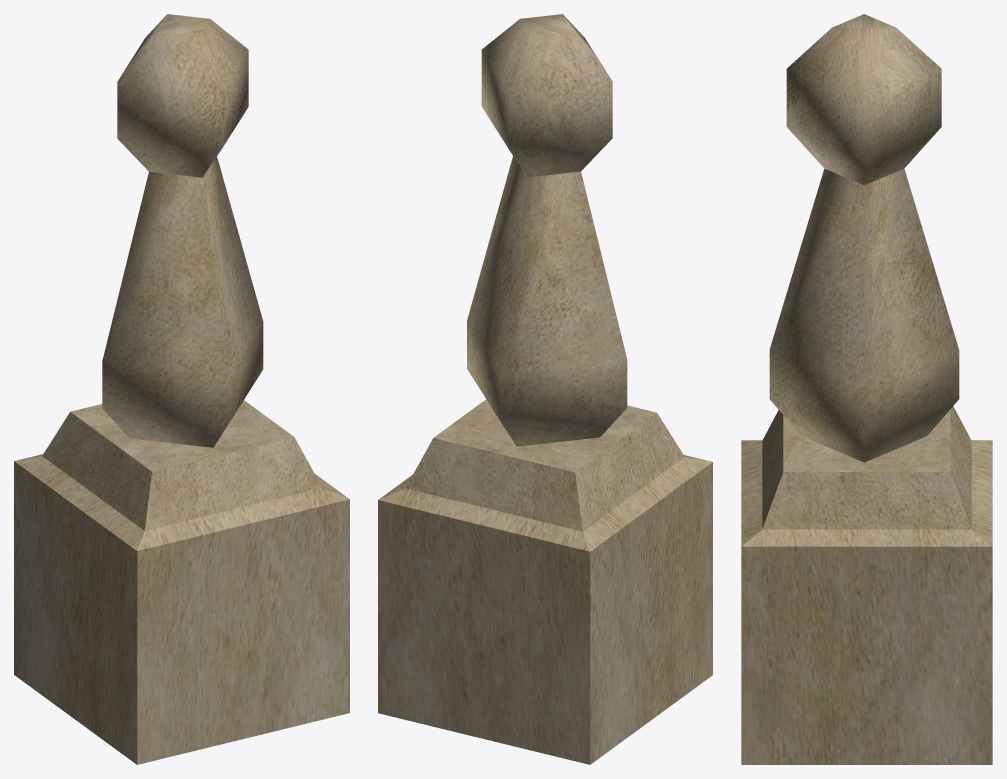
Rendered from thm_nboo_imprv_pillar_s08_l2.fbx.
3 renders of one model, left to right at view 1: azimuth 30°, elevation 25°; view 2: azimuth 150°, elevation 25°; view 3: azimuth 270°, elevation 25°, orthographic. The views are drawn at different scales.
Visible parts, largest first — view 1: mesh_node; view 2: mesh_node; view 3: mesh_node.
Part boxes in pixels (x1,y1,x2,y2): mesh_node: (14, 14, 349, 764); mesh_node: (378, 14, 712, 764); mesh_node: (741, 14, 992, 764).
Size of the model in its own units: 0.5982 by 1.8 by 0.5993.
